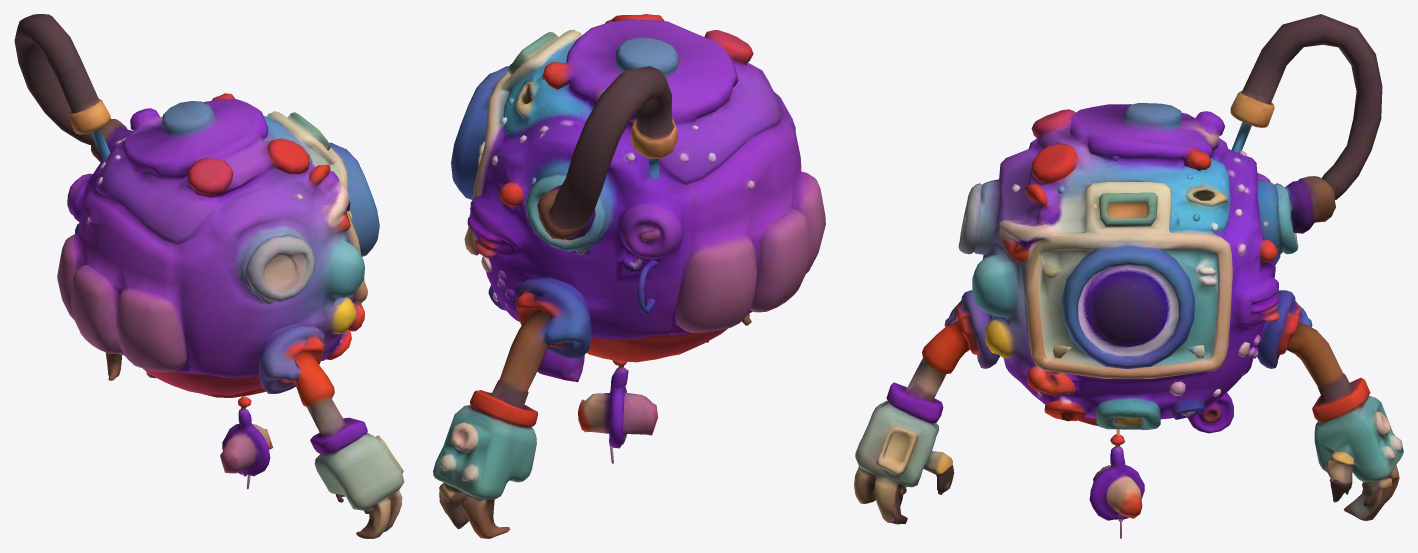
The model's file is scrap-sprite-B5Xga067.glb.
The picture shows the model from 3 angles, left to right: view 1: azimuth 30°, elevation 25°; view 2: azimuth 150°, elevation 25°; view 3: azimuth 270°, elevation 25°; orthographic projection. The views are drawn at different scales.
Parts seen in each view (by area): view 1: tripo_node_c6cabbb6-2b32-453b-955f-d019db788aae; view 2: tripo_node_c6cabbb6-2b32-453b-955f-d019db788aae; view 3: tripo_node_c6cabbb6-2b32-453b-955f-d019db788aae.
Part boxes in pixels (x1,y1,x2,y2): tripo_node_c6cabbb6-2b32-453b-955f-d019db788aae: (14, 14, 404, 538); tripo_node_c6cabbb6-2b32-453b-955f-d019db788aae: (433, 14, 825, 538); tripo_node_c6cabbb6-2b32-453b-955f-d019db788aae: (854, 14, 1403, 538).
Bounding box in the file's own units: 0.638 × 0.9335 × 1.
Materials: 1 (1 with a texture image).
